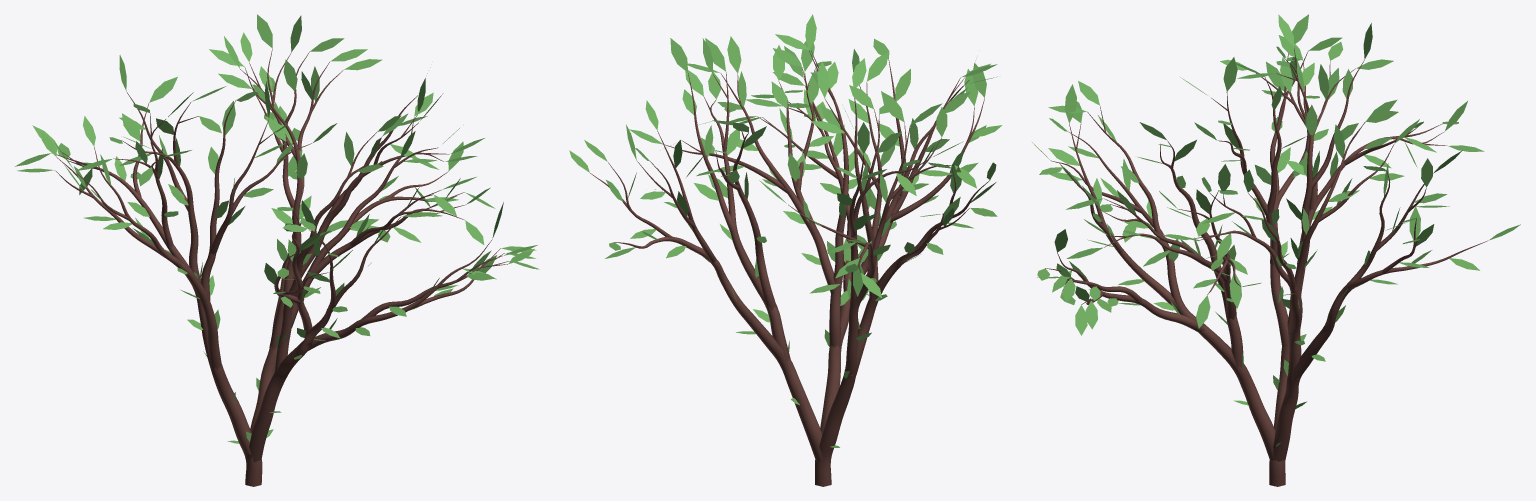
Rendered from tree-25.gltf.
3 renders of one model, left to right at view 1: azimuth 30°, elevation 25°; view 2: azimuth 150°, elevation 25°; view 3: azimuth 270°, elevation 25°, orthographic.
Parts seen in each view (by area): view 1: tree-25; view 2: tree-25; view 3: tree-25.
Part boxes in pixels (x1=…): tree-25: x1=15, y1=14, x2=539, y2=486; tree-25: x1=569, y1=14, x2=1002, y2=486; tree-25: x1=1032, y1=14, x2=1520, y2=486.
Size of the model in its own units: 3.55 by 3.48 by 3.66.
2 materials, 1 textured.
